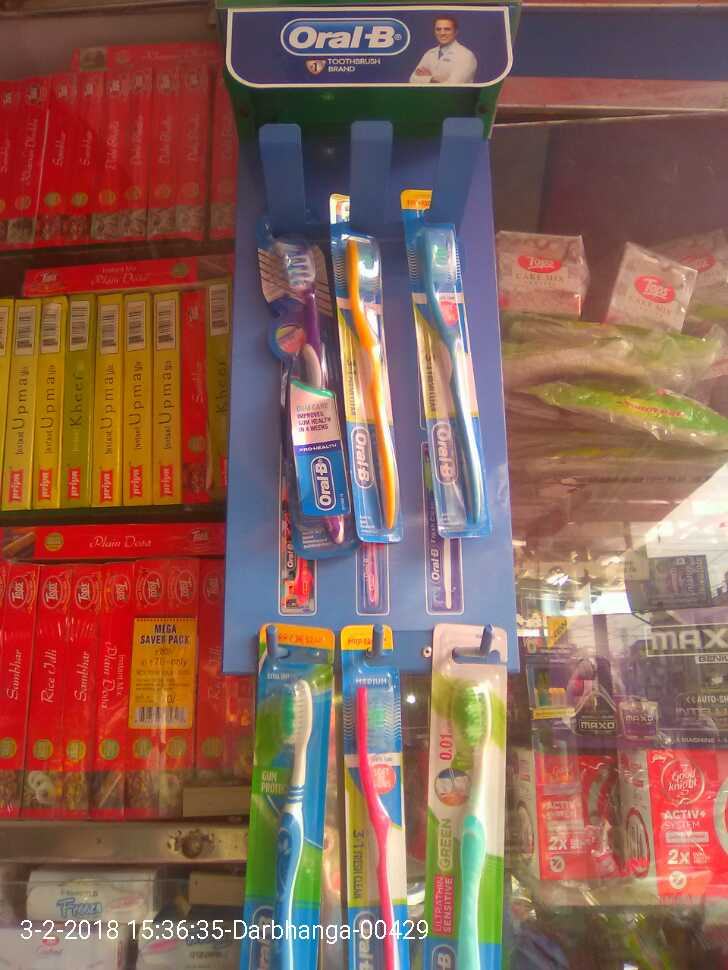oralb: (400, 193, 499, 537), (322, 193, 410, 546), (256, 235, 353, 512)
